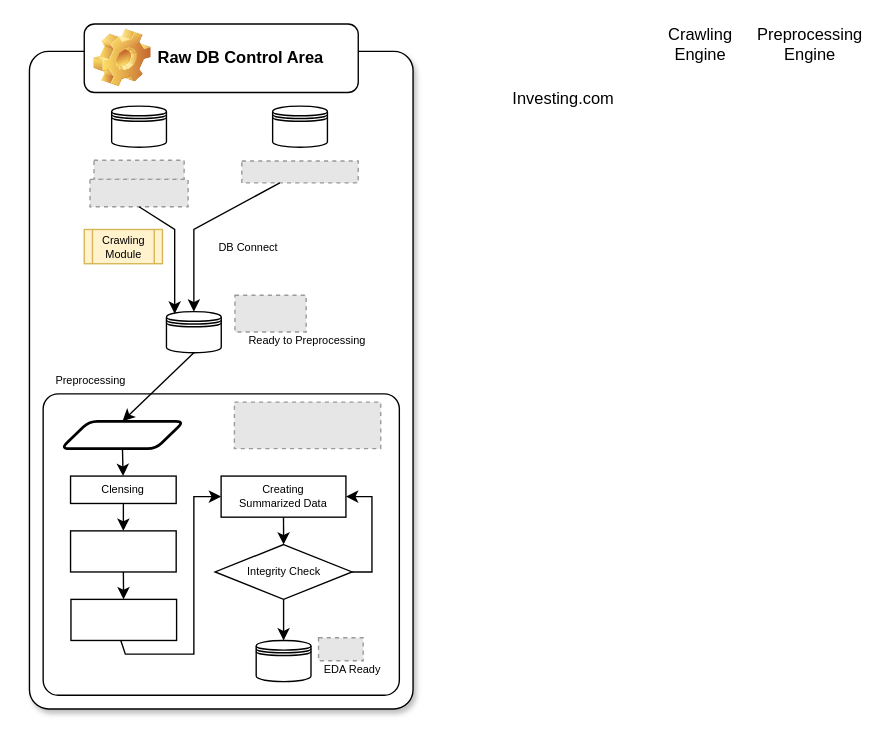
Some shapes in this 886 by 743 pixel diagram are drawn without their labels. Grey dashed boxes stand in for pictures. Here are the shapes that lost their labels. From the top down, the centre of each, then its label:
(x=122, y=434): Raw DB
(x=122, y=551): Outlier Elimination
(x=123, y=619): Normalization
